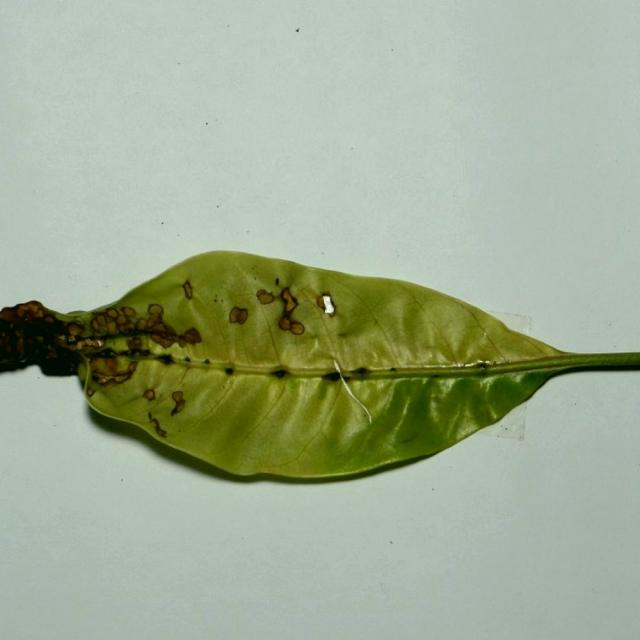Anthracnose: (277, 287, 305, 334), (5, 301, 47, 321), (316, 292, 340, 322), (68, 336, 106, 352), (97, 356, 121, 375), (170, 391, 186, 417), (149, 332, 175, 348), (228, 306, 249, 325), (181, 327, 202, 346), (151, 418, 167, 439), (256, 289, 275, 304), (65, 323, 85, 337), (55, 334, 73, 348), (281, 287, 295, 304), (147, 303, 164, 317), (127, 336, 143, 350), (322, 371, 342, 382), (182, 280, 193, 299), (121, 306, 136, 318), (159, 354, 175, 365), (272, 369, 288, 379), (135, 318, 148, 330), (143, 388, 156, 399), (105, 308, 119, 317), (128, 361, 138, 373), (356, 367, 369, 375), (477, 361, 488, 370), (86, 388, 95, 397), (224, 367, 234, 375), (148, 411, 154, 421), (203, 358, 210, 364), (213, 296, 218, 303), (275, 278, 279, 286)
Mango: (0, 252, 639, 487)
